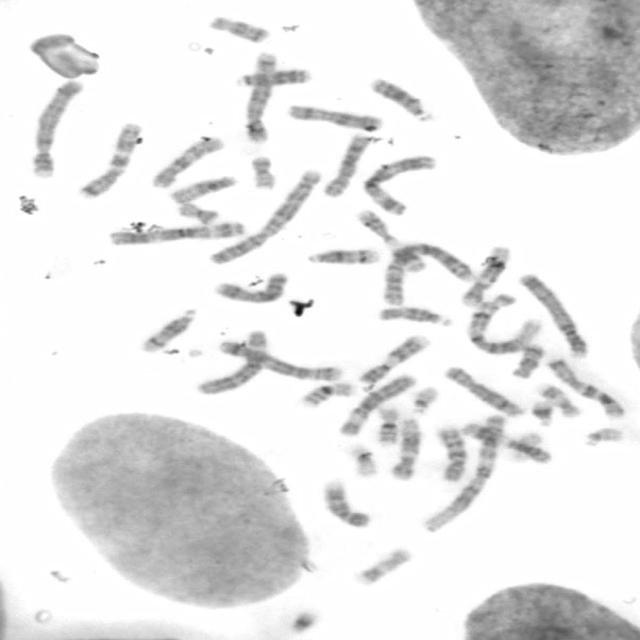A1: (417, 413, 509, 534), (462, 291, 544, 356)
A2: (205, 166, 323, 266), (378, 240, 478, 307)
A3: (358, 152, 440, 216), (104, 218, 247, 246)
B4: (516, 269, 590, 359), (26, 76, 84, 180)
B5: (213, 338, 344, 382), (239, 48, 279, 144)
C10: (147, 133, 226, 190), (432, 423, 470, 484)
C11: (353, 206, 429, 275), (456, 419, 552, 466)
C12: (458, 242, 512, 308), (386, 415, 423, 481)
C6: (334, 371, 418, 438), (193, 327, 271, 397)
C7: (72, 118, 142, 200), (543, 354, 626, 420)
C8: (439, 364, 524, 418), (318, 132, 372, 198)
C9: (355, 332, 431, 384), (319, 476, 372, 530)
D13: (367, 74, 434, 123), (233, 65, 311, 88)
D14: (136, 306, 199, 354), (302, 244, 383, 266)
D15: (166, 172, 239, 205), (375, 304, 454, 328)
E16: (297, 379, 356, 410), (372, 404, 403, 446)
E17: (352, 545, 413, 587), (534, 381, 582, 419)
E18: (205, 13, 271, 44), (506, 341, 546, 380)
F19: (342, 439, 380, 478), (506, 431, 545, 464)
F20: (173, 199, 221, 226), (245, 152, 278, 191)
G21: (285, 607, 321, 634), (526, 397, 557, 428)
G22: (579, 424, 624, 448), (407, 384, 440, 414)
X: (283, 101, 385, 132), (208, 269, 290, 305)
